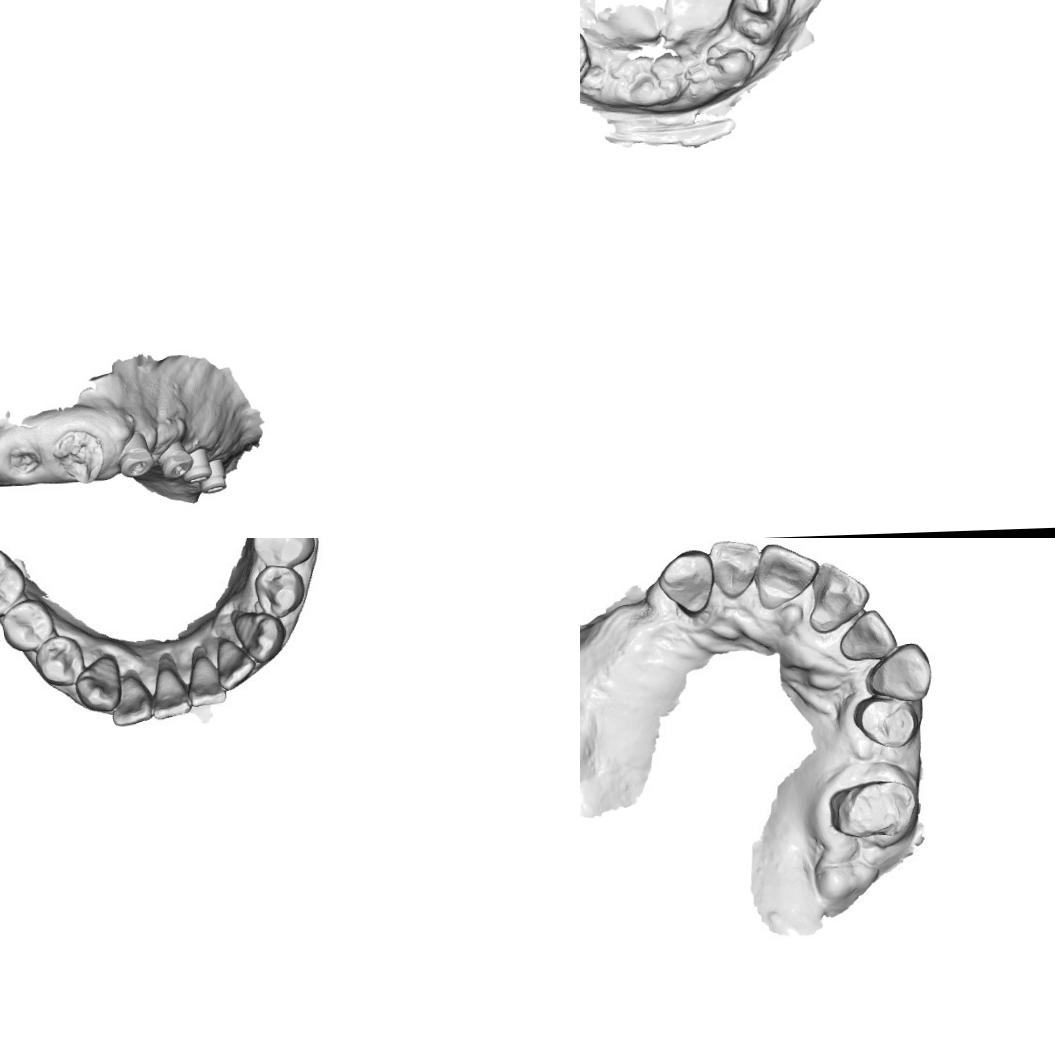canine: (864, 638, 937, 702), (658, 545, 716, 619), (230, 606, 284, 660), (74, 653, 121, 709)
crown: (820, 775, 917, 848)
implant_minus: (116, 442, 156, 480), (159, 442, 194, 480), (182, 446, 213, 484), (200, 459, 228, 494)
incisor: (806, 561, 866, 637), (709, 538, 768, 602), (758, 546, 816, 604), (837, 610, 897, 664), (111, 670, 156, 730), (152, 662, 195, 722), (212, 640, 258, 689), (188, 652, 229, 706)
molar: (0, 547, 23, 612)
premolar: (852, 695, 922, 750), (2, 603, 55, 650), (34, 634, 81, 686), (254, 564, 300, 615), (250, 538, 317, 570)
